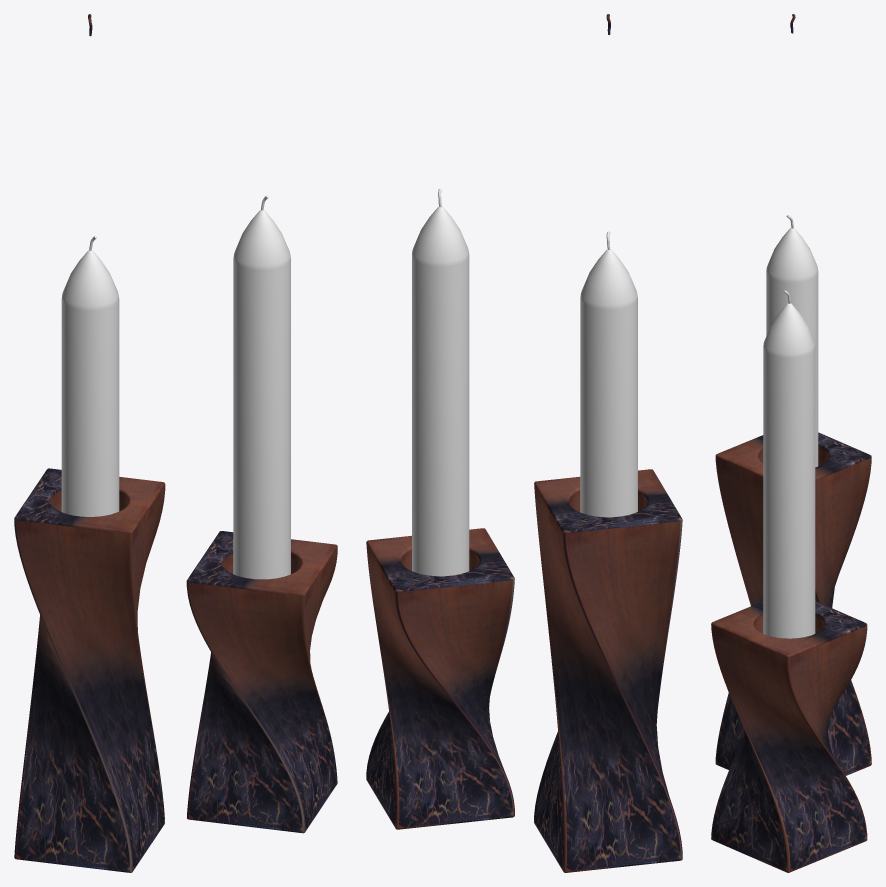
The model's file is candle.FBX.
3 renders of one model, left to right at view 1: azimuth 30°, elevation 25°; view 2: azimuth 150°, elevation 25°; view 3: azimuth 270°, elevation 25°, orthographic. The views are drawn at different scales.
Visible parts, largest first — view 1: candles; view 2: candles; view 3: candles.
Part boxes in pixels (bbox=[...]): candles: bbox=[14, 14, 337, 872]; candles: bbox=[366, 14, 682, 872]; candles: bbox=[711, 14, 871, 872].
Size of the model in its own units: 185 by 88.9 by 458.
